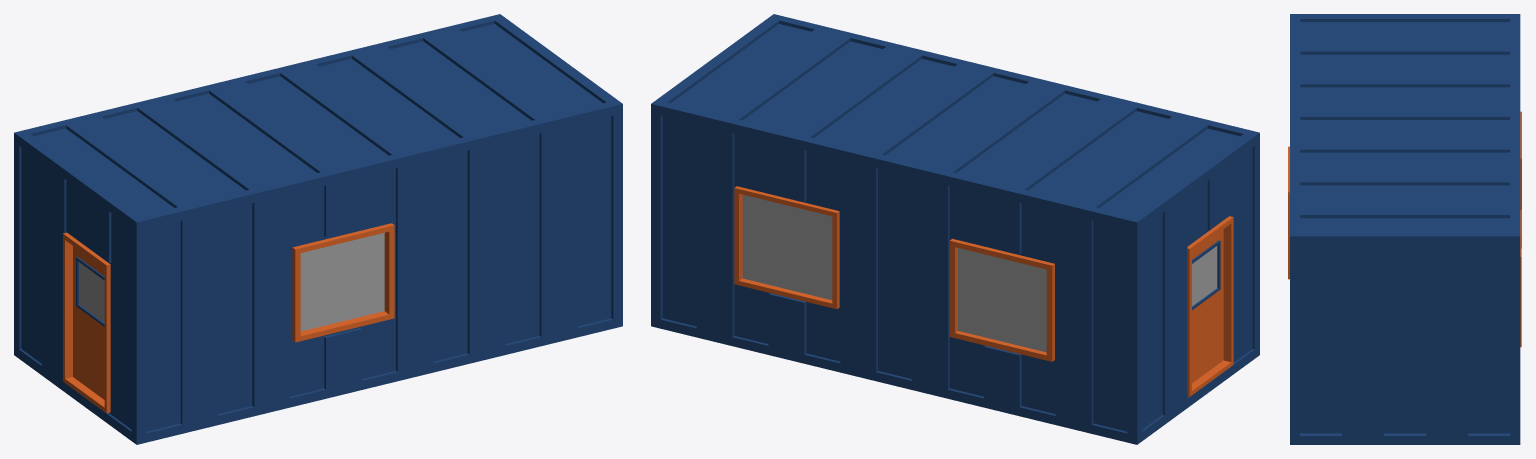
The picture shows the model from 3 angles, left to right: view 1: azimuth 30°, elevation 25°; view 2: azimuth 150°, elevation 25°; view 3: azimuth 270°, elevation 25°; orthographic projection. The views are drawn at different scales.
Visible parts, largest first — view 1: D-4; view 2: D-4; view 3: D-4.
Boxes of the visible parts, left/top/right/bottom form: D-4: left=14, top=14, right=622, bottom=444; D-4: left=651, top=14, right=1259, bottom=444; D-4: left=1288, top=14, right=1521, bottom=444.
Bounding box in the file's own units: 2110 × 919 × 933.
